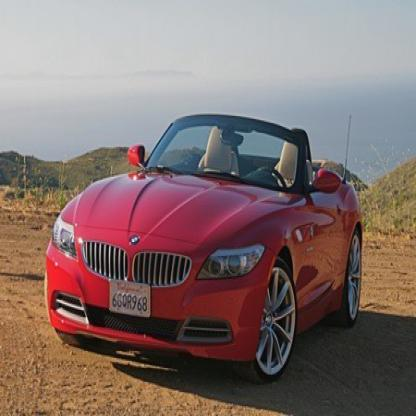Vehicle: (46, 118, 364, 380)
